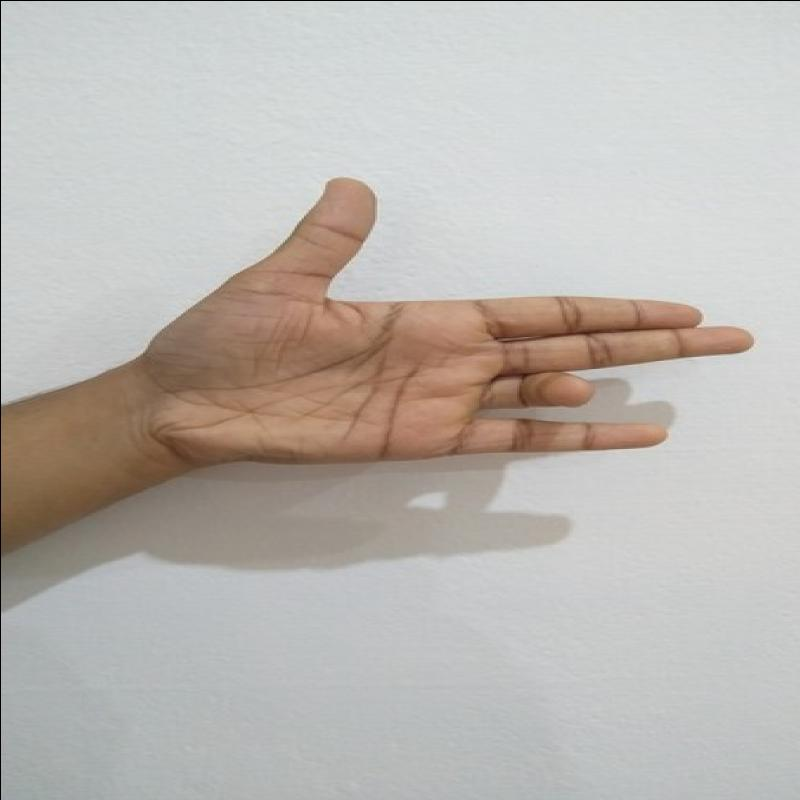Pathaaka: (121, 169, 758, 471)
